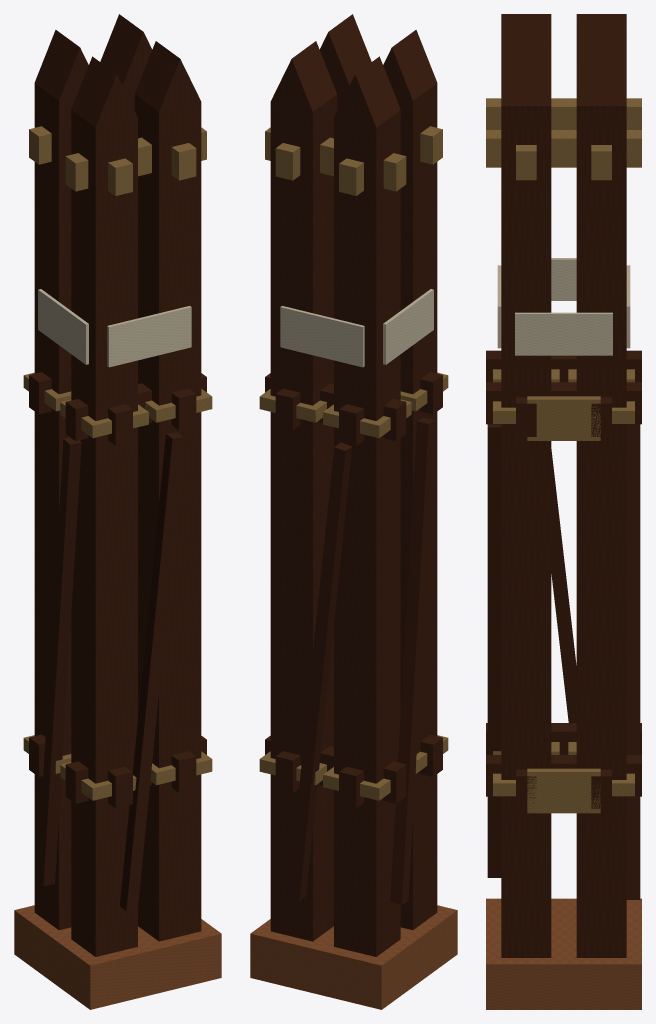
The model's file is Berber_PalisadeBastion_Age2_terminal.fbx.
3 renders of one model, left to right at view 1: azimuth 30°, elevation 25°; view 2: azimuth 150°, elevation 25°; view 3: azimuth 270°, elevation 25°, orthographic. The views are drawn at different scales.
Visible parts, largest first — view 1: split_timber_upright, split_timber_upright.002, split_timber_upright.001, compacted_earth_footing, terminal_diagonal_stay.004, terminal_diagonal_stay.002, native_owner_stripe_source.002, split_timber_upright.003, native_owner_stripe_source, locking_head_tie_x, bundle_cross_tie_x.002, bundle_cross_tie_y.001 (+12 smaller); view 2: split_timber_upright.001, split_timber_upright.003, split_timber_upright, compacted_earth_footing, terminal_diagonal_stay.002, terminal_diagonal_stay, native_owner_stripe_source.003, split_timber_upright.002, native_owner_stripe_source, locking_head_tie_x.001, bundle_cross_tie_x.003, bundle_cross_tie_x.001 (+12 smaller); view 3: split_timber_upright.002, split_timber_upright.003, compacted_earth_footing, terminal_diagonal_stay, terminal_diagonal_stay.004, native_owner_stripe_source.001, exposed_wall_socket_collar, terminal_diagonal_stay.002, exposed_wall_socket_collar.001, locking_head_tie_y.001, locking_head_tie_y, split_timber_upright (+14 smaller).
Part boxes in pixels (x1,y1,x2,y2): split_timber_upright: (71,56,137,956); split_timber_upright.002: (134,41,201,941); split_timber_upright.001: (34,30,88,930); compacted_earth_footing: (14,905,221,1009); terminal_diagonal_stay.004: (119,432,183,911); terminal_diagonal_stay.002: (37,437,81,886); native_owner_stripe_source.002: (107,306,191,367); split_timber_upright.003: (100,14,152,109); native_owner_stripe_source: (38,289,88,364); locking_head_tie_x: (65,127,206,191); bundle_cross_tie_x.002: (65,373,206,441); bundle_cross_tie_y.001: (171,751,196,792); split_timber_upright.001: (334,56,400,956); split_timber_upright.003: (270,41,337,941); split_timber_upright: (383,30,437,930); compacted_earth_footing: (250,905,457,1009); terminal_diagonal_stay.002: (390,417,434,904); terminal_diagonal_stay: (288,442,352,900); native_owner_stripe_source.003: (280,306,364,367); split_timber_upright.002: (319,14,371,109); native_owner_stripe_source: (383,289,433,364); locking_head_tie_x.001: (265,127,406,191); bundle_cross_tie_x.003: (265,373,406,441); bundle_cross_tie_x.001: (265,736,406,803); split_timber_upright.002: (501,46,551,957); split_timber_upright.003: (576,46,626,957); compacted_earth_footing: (486,898,641,1009); terminal_diagonal_stay: (626,424,640,899); terminal_diagonal_stay.004: (487,424,501,877); native_owner_stripe_source.001: (515,312,612,355); exposed_wall_socket_collar: (527,768,600,813); terminal_diagonal_stay.002: (551,449,576,722); exposed_wall_socket_collar.001: (527,396,600,440); locking_head_tie_y.001: (486,130,641,167); locking_head_tie_y: (486,98,641,129); split_timber_upright: (501,14,551,45).
Bounding box in the file's own units: 68.29 × 458 × 68.29.
Materials: 4 (4 with a texture image).
